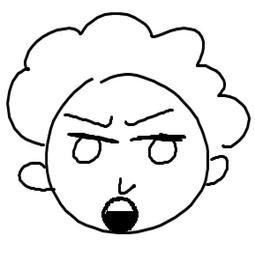ear: (17, 164, 59, 197), (204, 156, 233, 189)
empty_eye: (68, 131, 103, 166), (147, 132, 180, 169)
frowning_eyebrow: (62, 109, 115, 133), (123, 105, 177, 126)
nose: (116, 178, 136, 196)
open_mouth: (98, 194, 142, 237)
